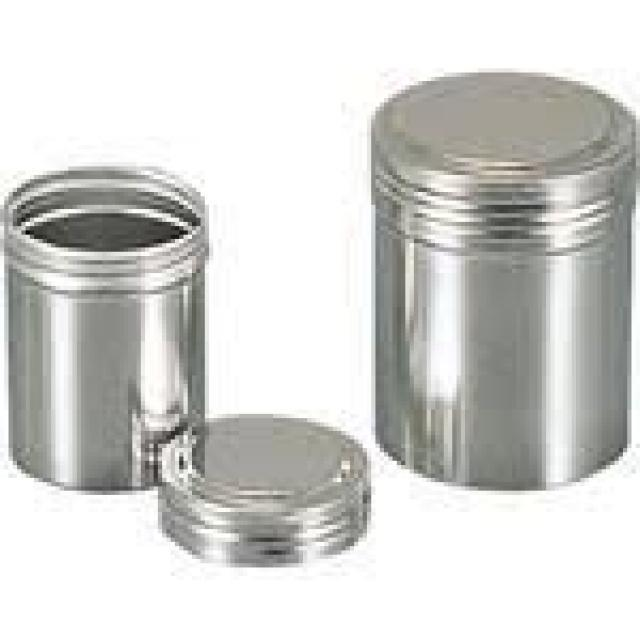recyclable: (368, 64, 636, 493), (3, 163, 208, 493), (157, 410, 375, 570)
